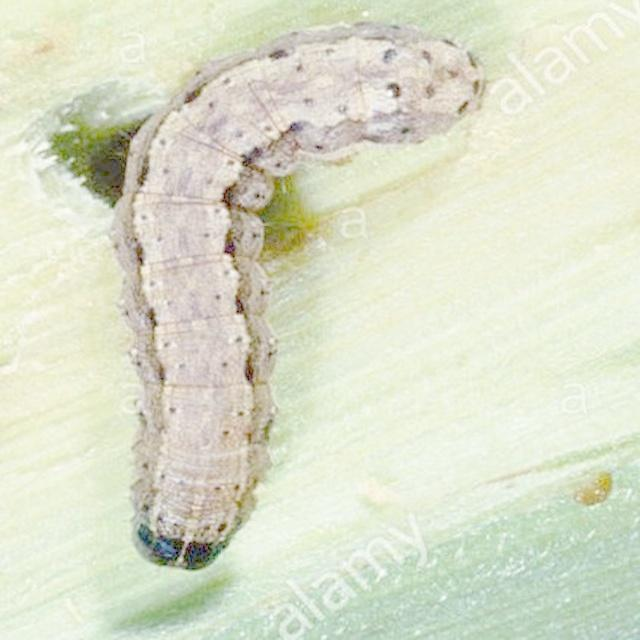gusano_cogollero: (102, 14, 490, 572)
